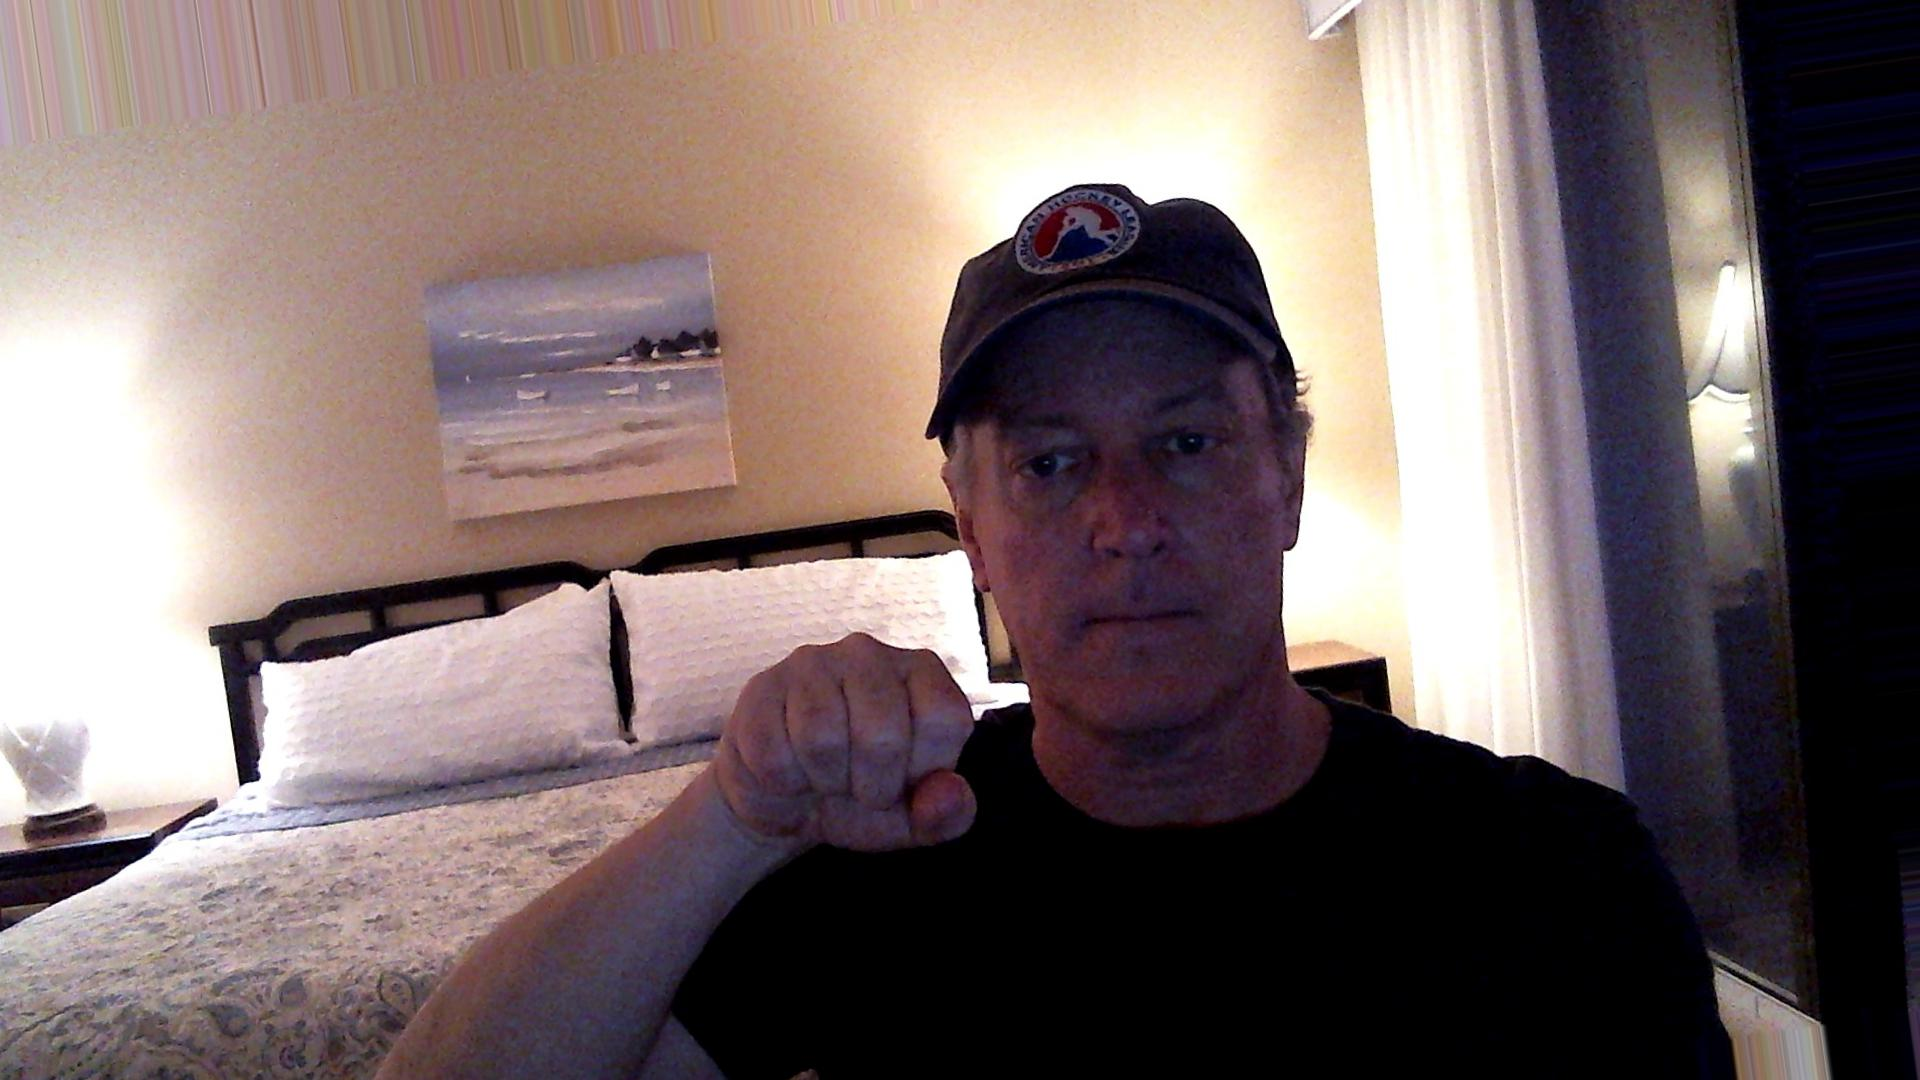Yes: (694, 624, 1027, 878)
